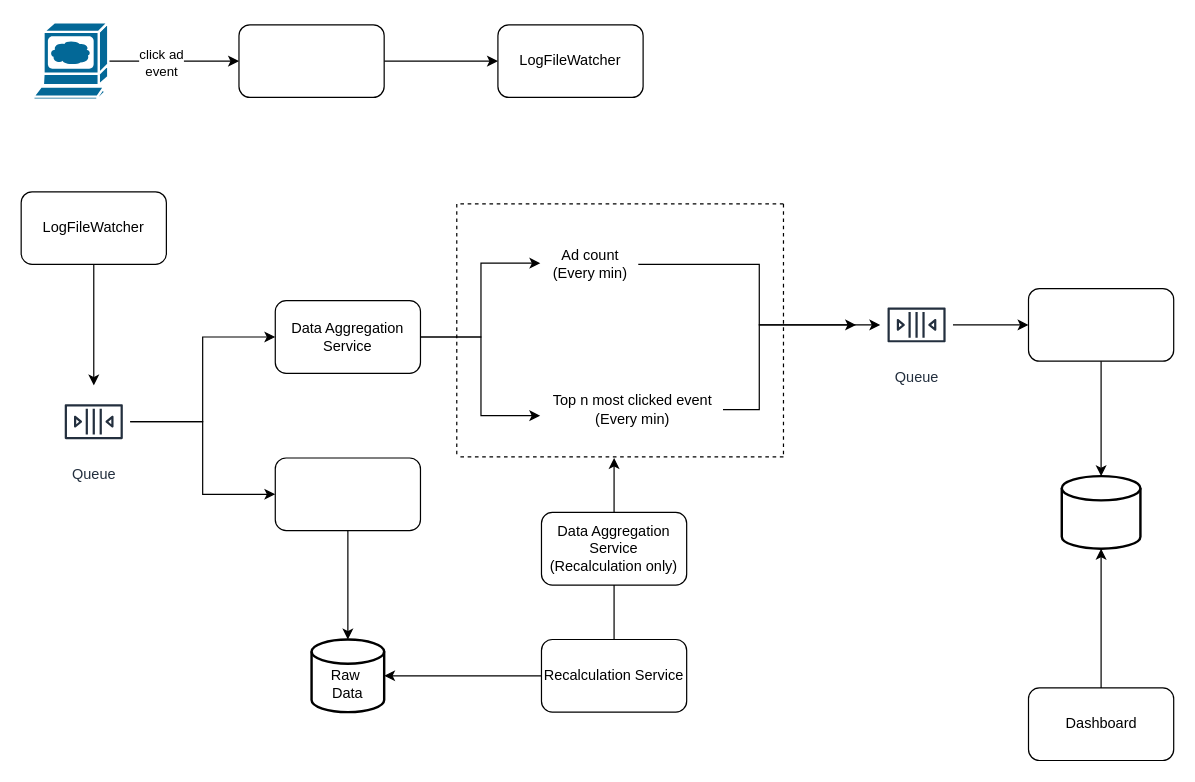
The diagram is 1195 pixels wide and 782 high, and some of its shapes have lost their labels. The shapes that lost their labels are listed below. From the top down, each one's centre as x and y in pixels, then its label:
At (x=311, y=60): "LogFile".
At (x=1100, y=324): "Aggregated Persistent Service".
At (x=347, y=494): "Event Persistent Service".
At (x=1100, y=511): "Aggregated Data".
